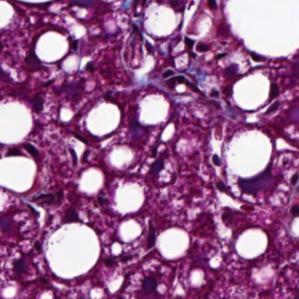inflammation: (158, 34, 230, 82), (215, 173, 281, 209)
